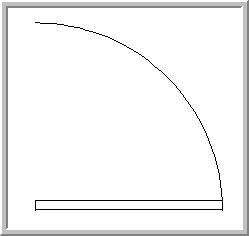door: (32, 17, 227, 204)
